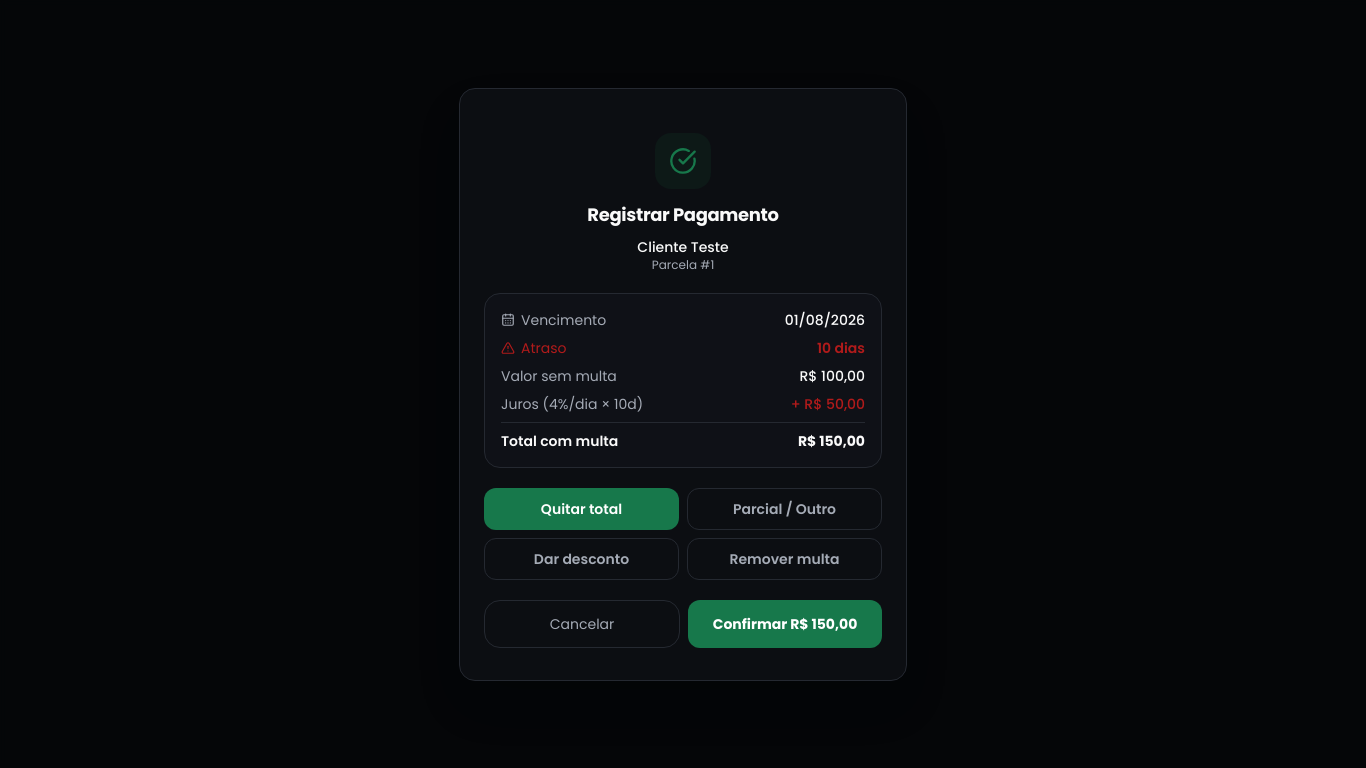
Test: PayModal — desconto nos encargos › desconta somente multa/juros e envia o valor final correto
Later steps or results of the test are not shown.
Click the button "Dar desconto": {"x": 582, "y": 558} [484, 538, 679, 580]
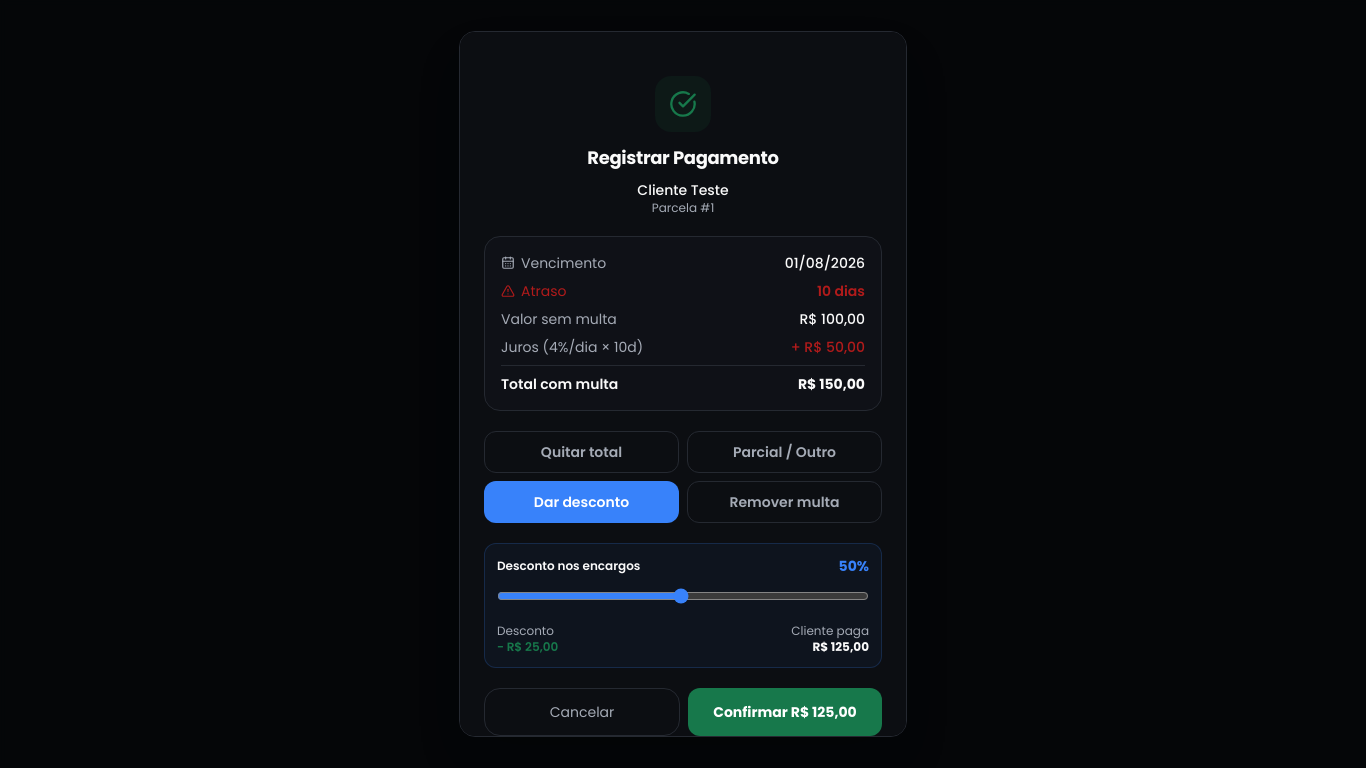
Check: the text "− R$ 25,00" is shown, box [497, 638, 558, 655]
